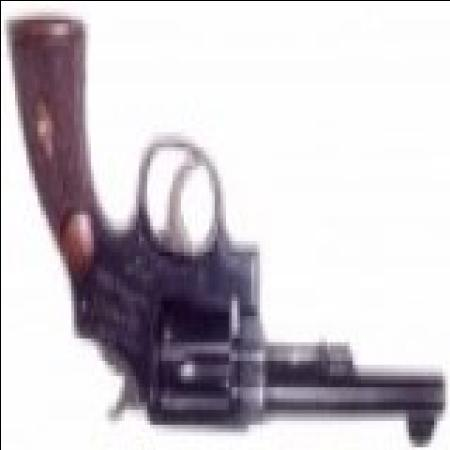Pistol: (8, 23, 438, 442)
